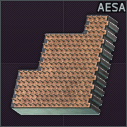Phased array element: (0, 0, 127, 127)
